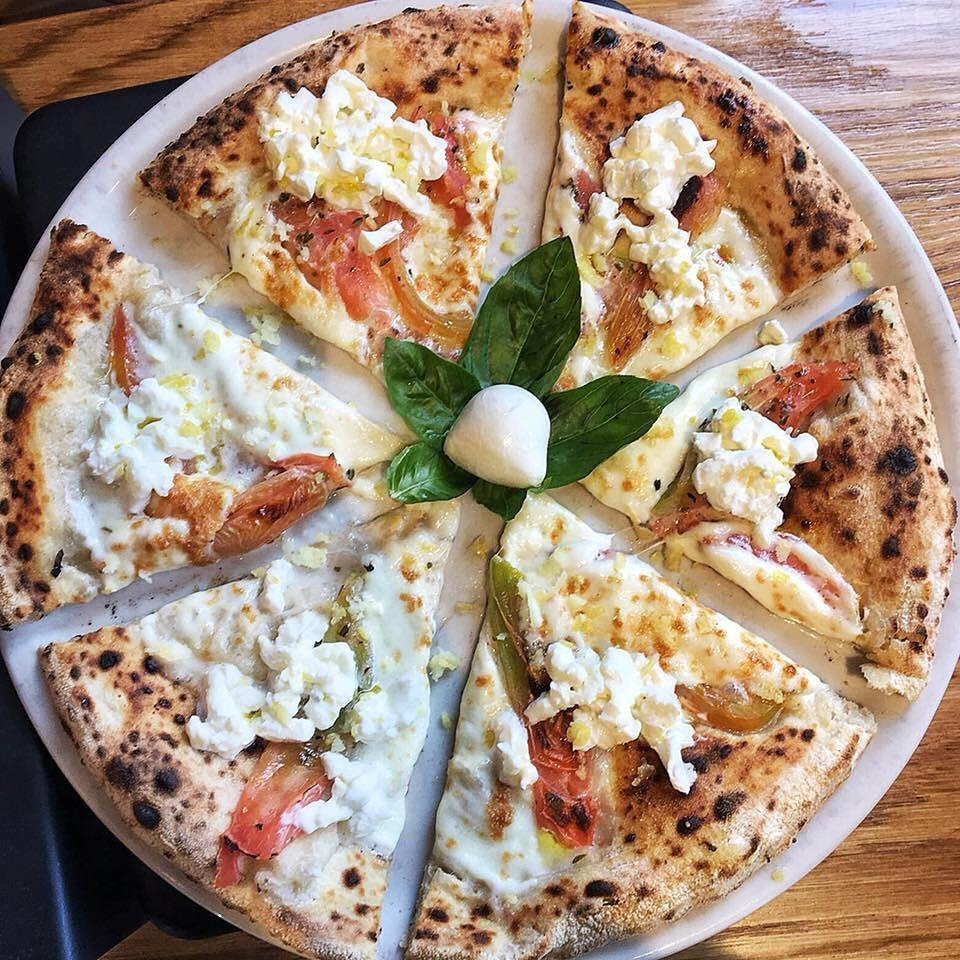Basil: (458, 236, 581, 390), (546, 374, 685, 493), (384, 335, 480, 440), (387, 440, 470, 504), (470, 480, 529, 523)
Cheese: (216, 654, 336, 735), (293, 106, 405, 188), (563, 657, 672, 740), (447, 392, 546, 480), (707, 414, 780, 511), (112, 401, 184, 473)
Pizza: (7, 0, 960, 960)
